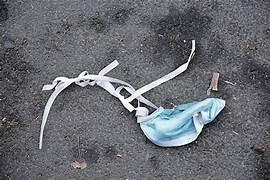Mask: (39, 40, 224, 148), (140, 98, 224, 146)
